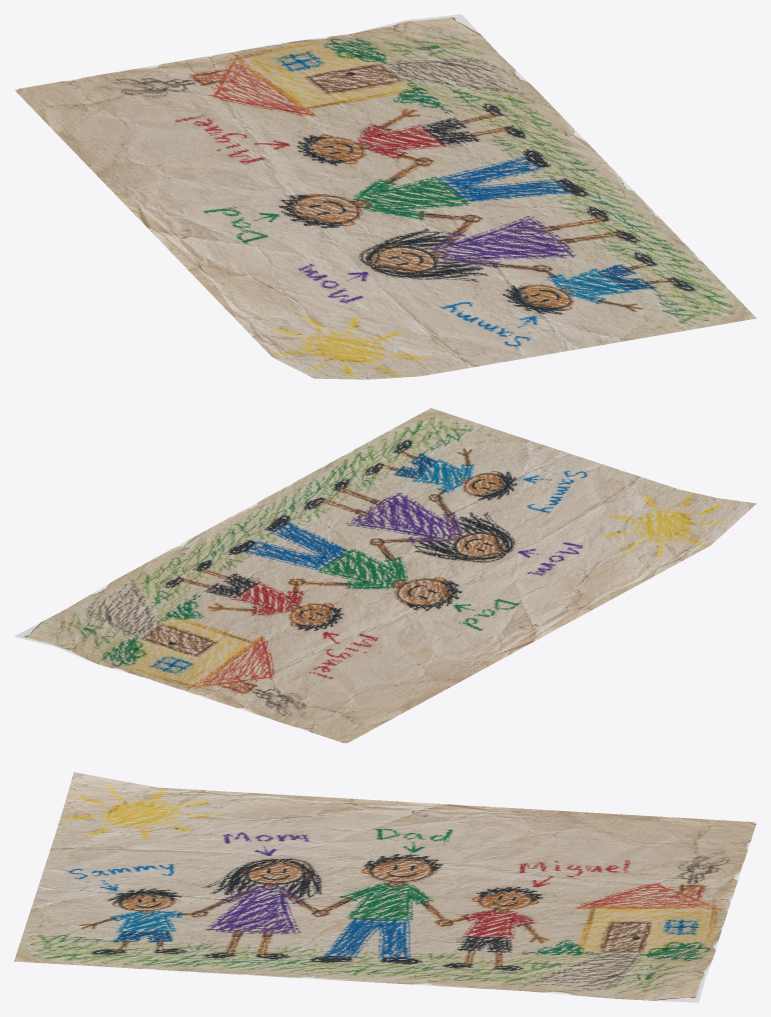
The model's file is Family_Portrait.fbx.
3 renders of one model, top to bottom at view 1: azimuth 30°, elevation 25°; view 2: azimuth 150°, elevation 25°; view 3: azimuth 270°, elevation 25°, orthographic. The views are drawn at different scales.
Visible parts, largest first — view 1: Drawing; view 2: Drawing; view 3: Drawing.
Boxes of the visible parts, x1,y1,x2,y2 form: Drawing: (14,14,756,379); Drawing: (14,408,756,743); Drawing: (14,772,756,1002).
Size of the model in its own units: 0.423 by 0.0142 by 0.6146.
1 material, 1 textured.
